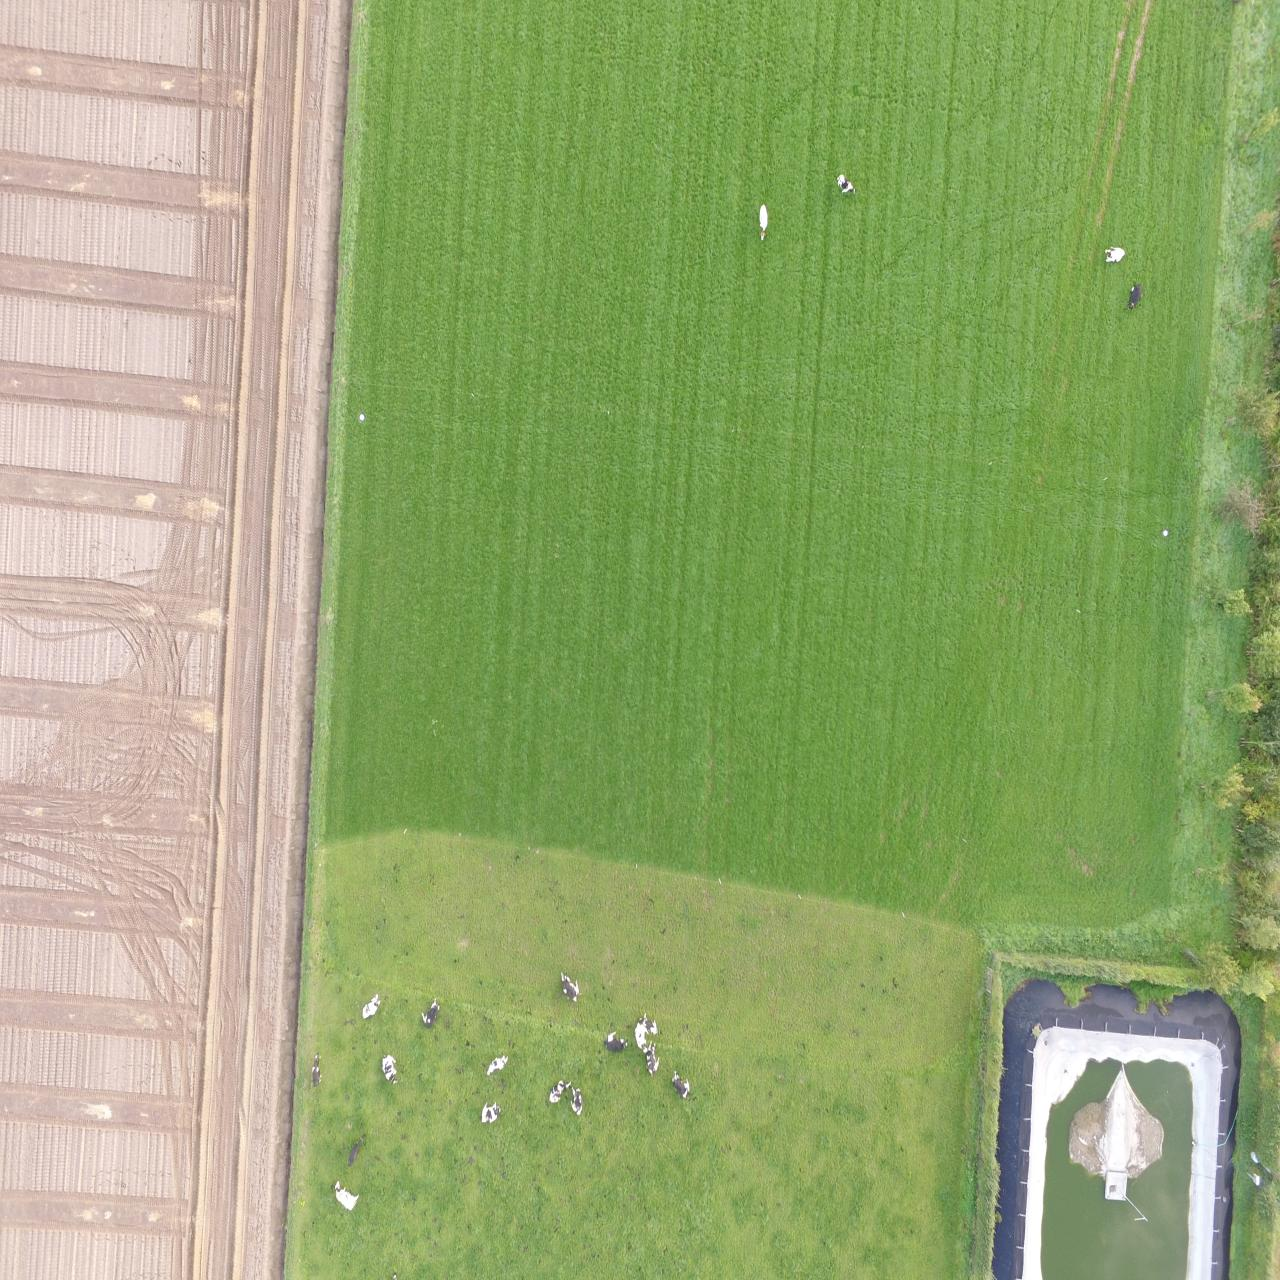cow: (333, 1180, 359, 1212), (345, 1133, 367, 1169), (560, 971, 580, 1001), (634, 1014, 648, 1055), (547, 1078, 571, 1103), (421, 996, 440, 1027), (360, 993, 380, 1020), (604, 1032, 628, 1053), (673, 1069, 689, 1099), (382, 1053, 399, 1083), (485, 1053, 508, 1075), (836, 172, 857, 196), (481, 1099, 501, 1124), (1125, 282, 1142, 311), (645, 1043, 659, 1076), (570, 1085, 584, 1116), (757, 203, 768, 241), (311, 1051, 321, 1089), (1103, 246, 1125, 263), (644, 1010, 659, 1033)
